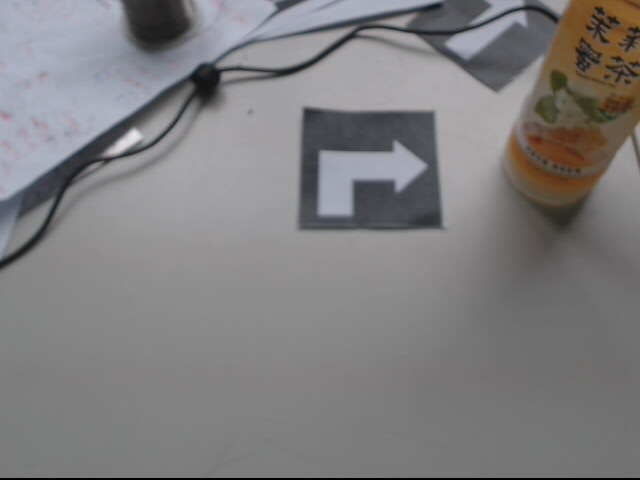right: (297, 105, 443, 227)
